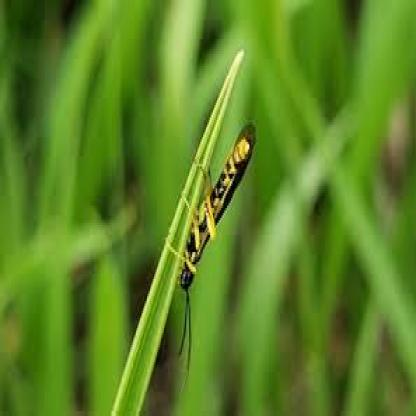sawfly: (164, 119, 257, 368)
